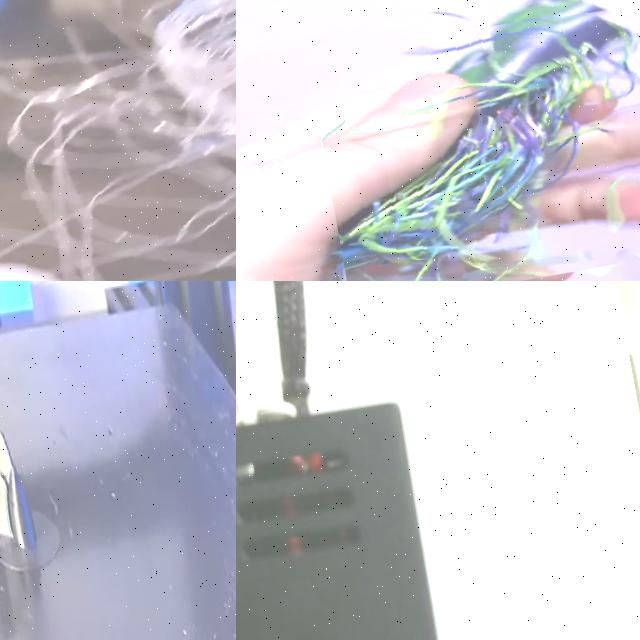spaghetti: (338, 21, 640, 281), (0, 0, 236, 281)
